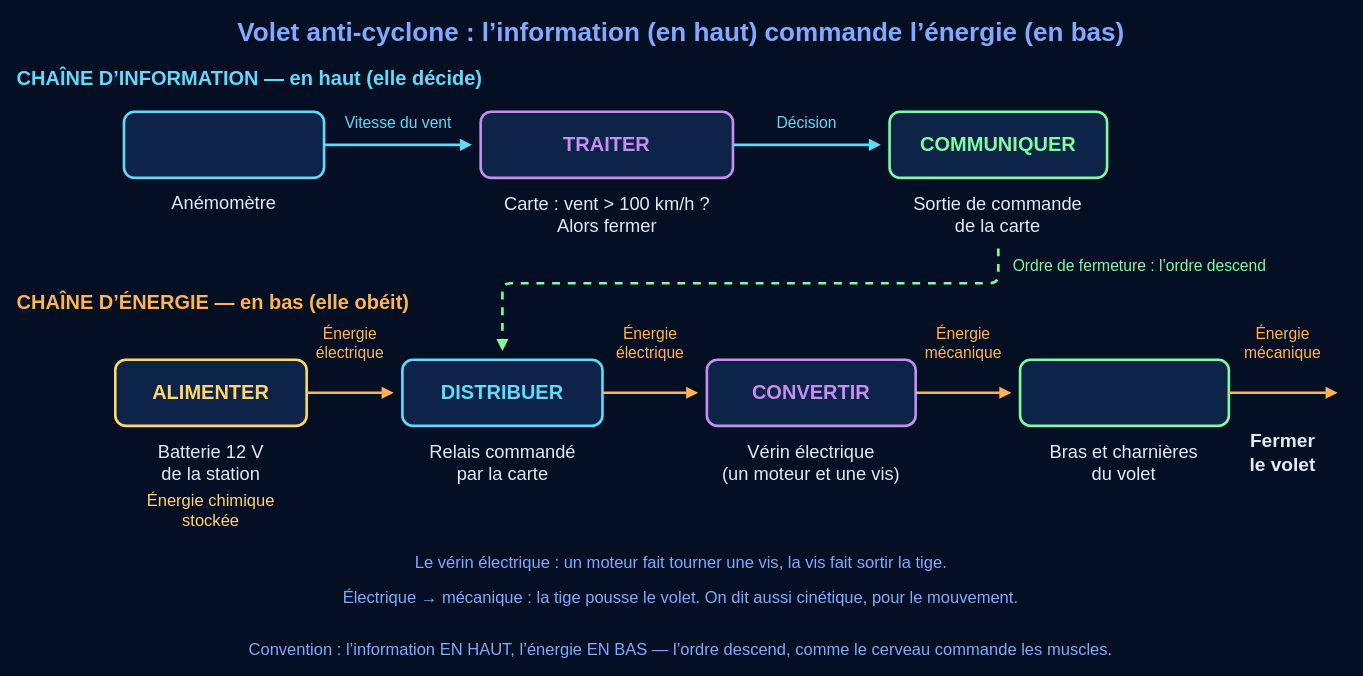
Some shapes in this 1363 by 676 pixel diagram are drawn without their labels. The shapes that lost their labels are listed below. From the top down, each one's centre as x and y in pixels, then its label:
(x=223, y=144): ACQUÉRIR
(x=1124, y=392): TRANSMETTRE
